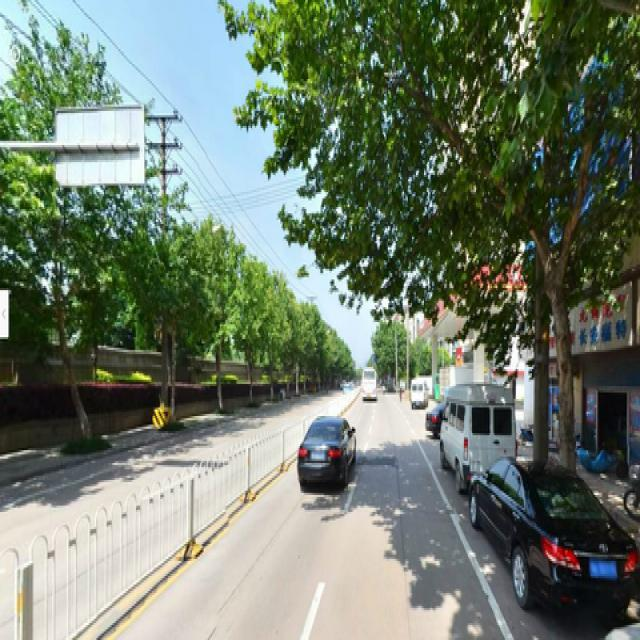meta: (201, 232, 235, 399)
